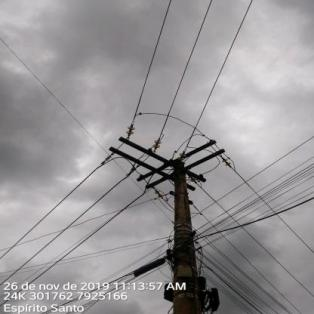Poste: (165, 154, 202, 314)
